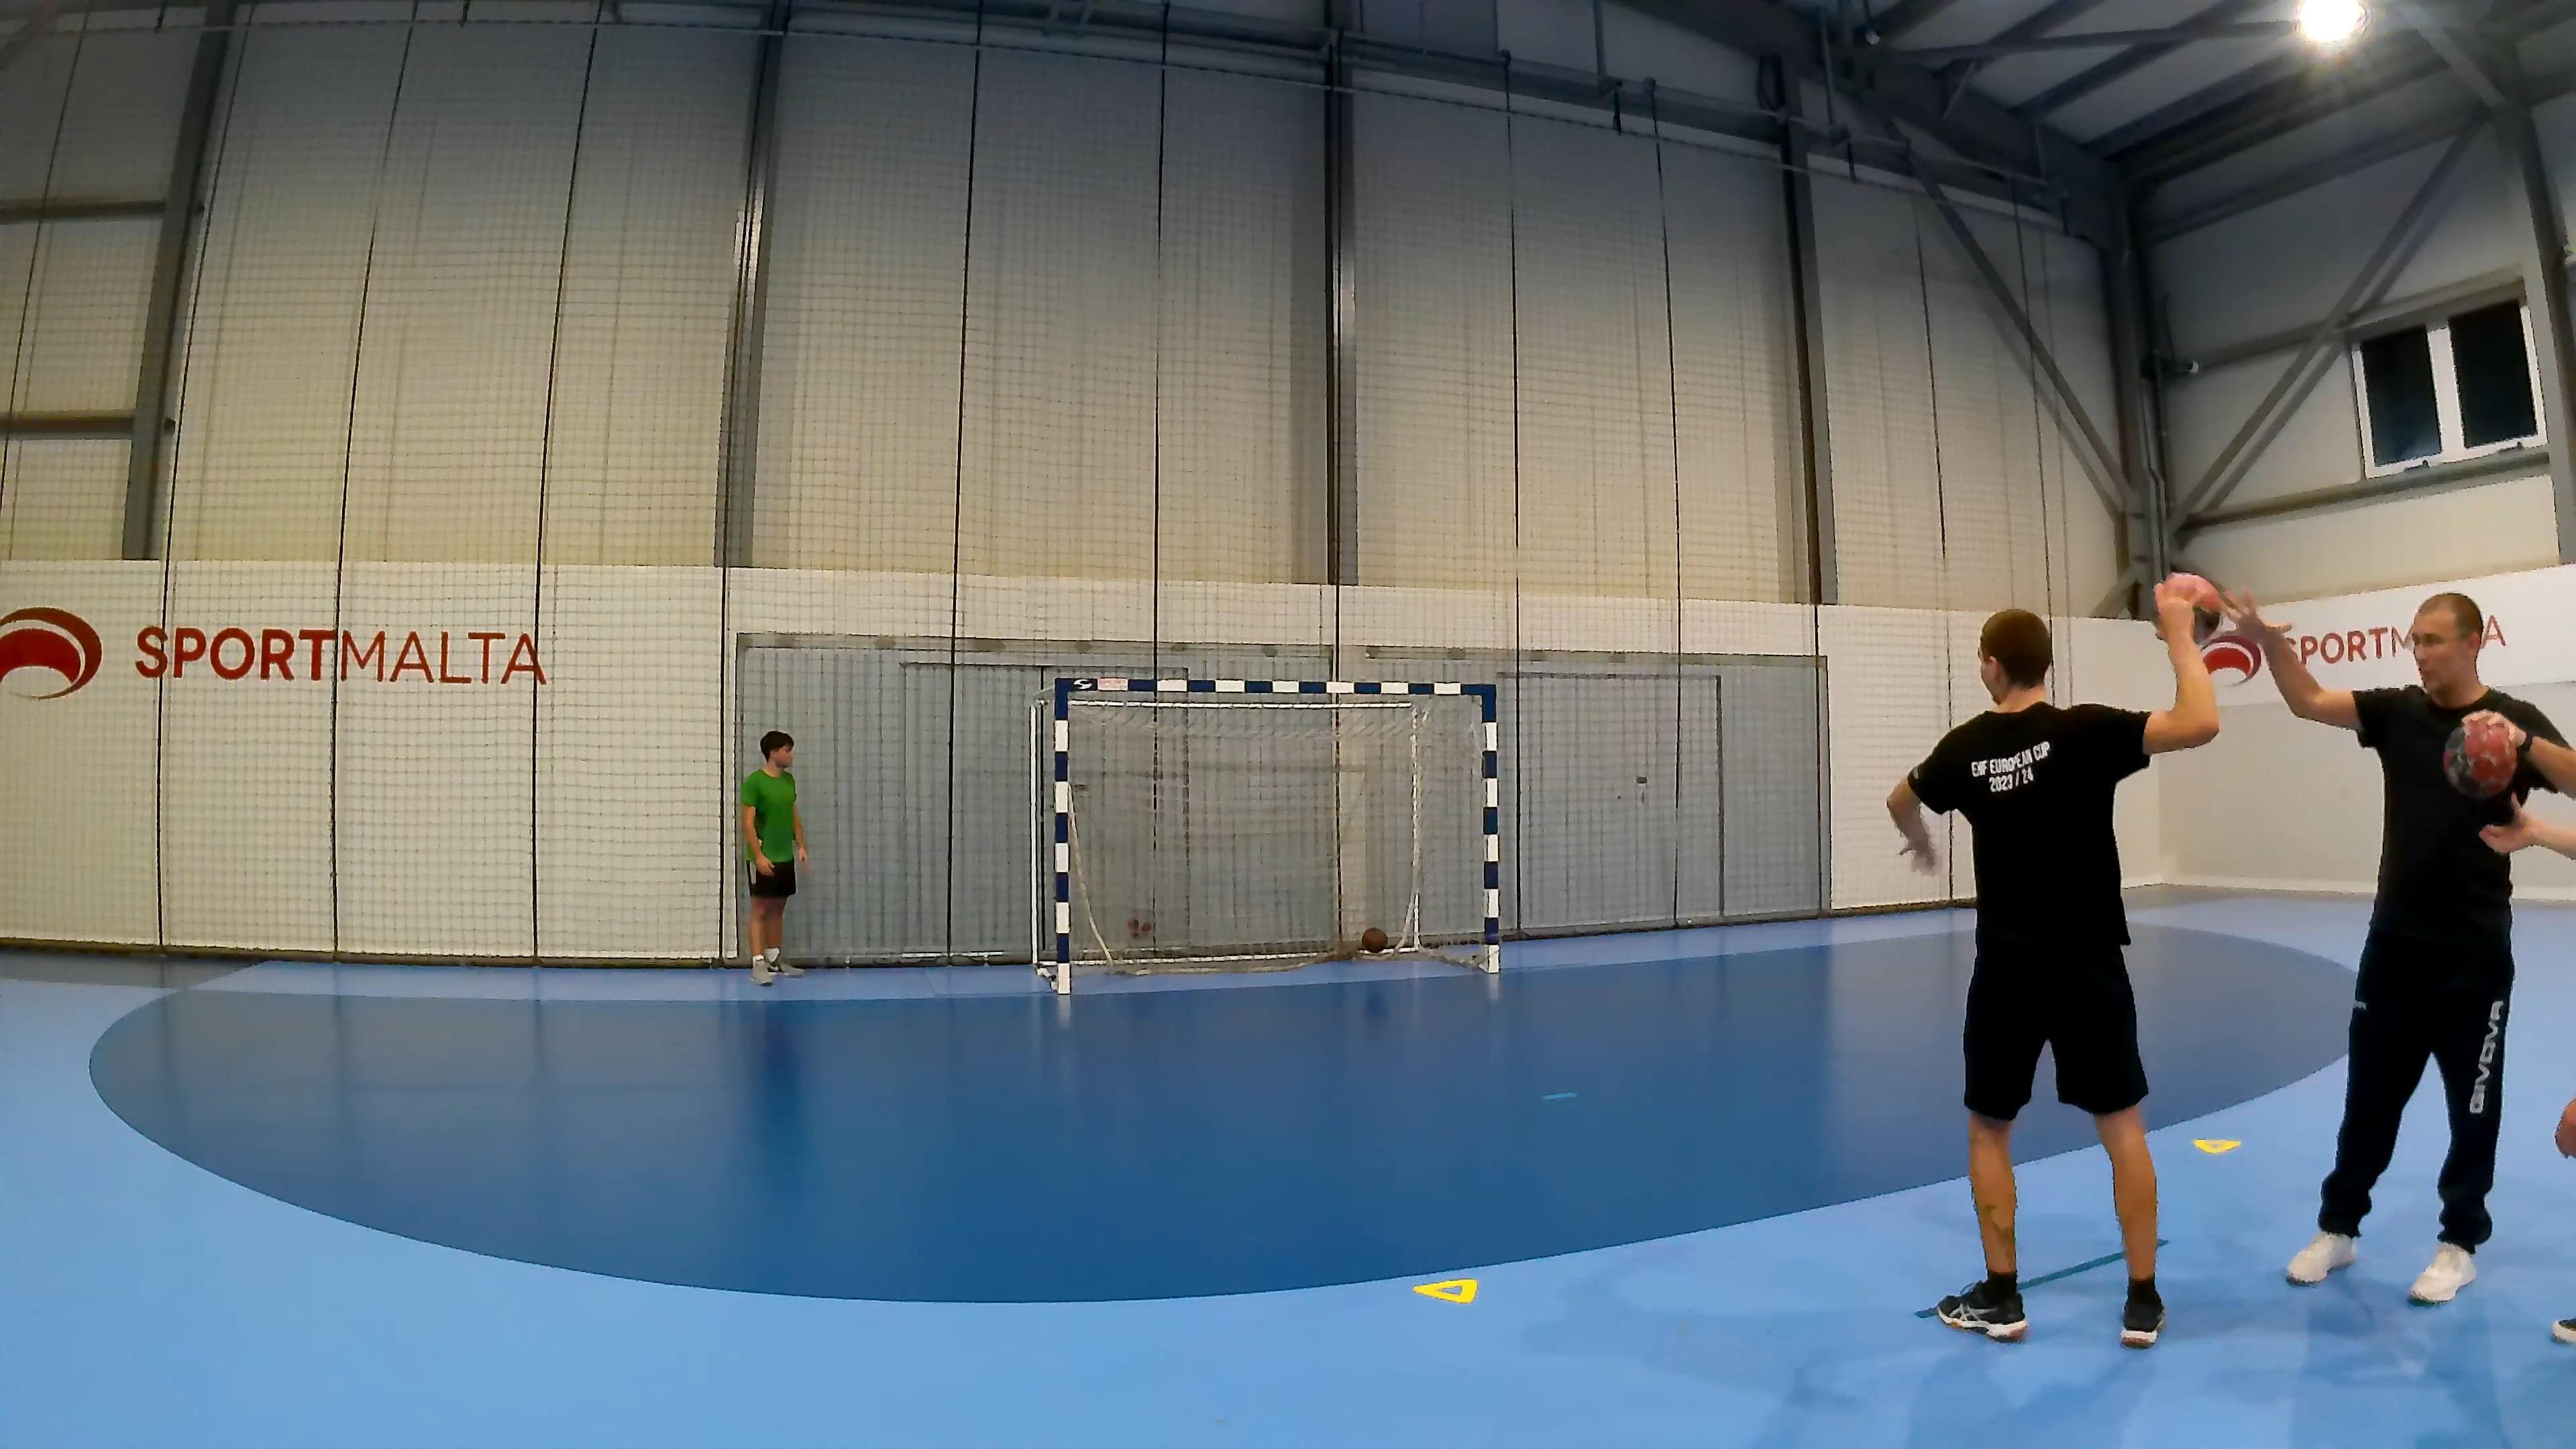handball: (2442, 711, 2518, 798), (2155, 570, 2224, 637), (1364, 918, 1396, 966)
